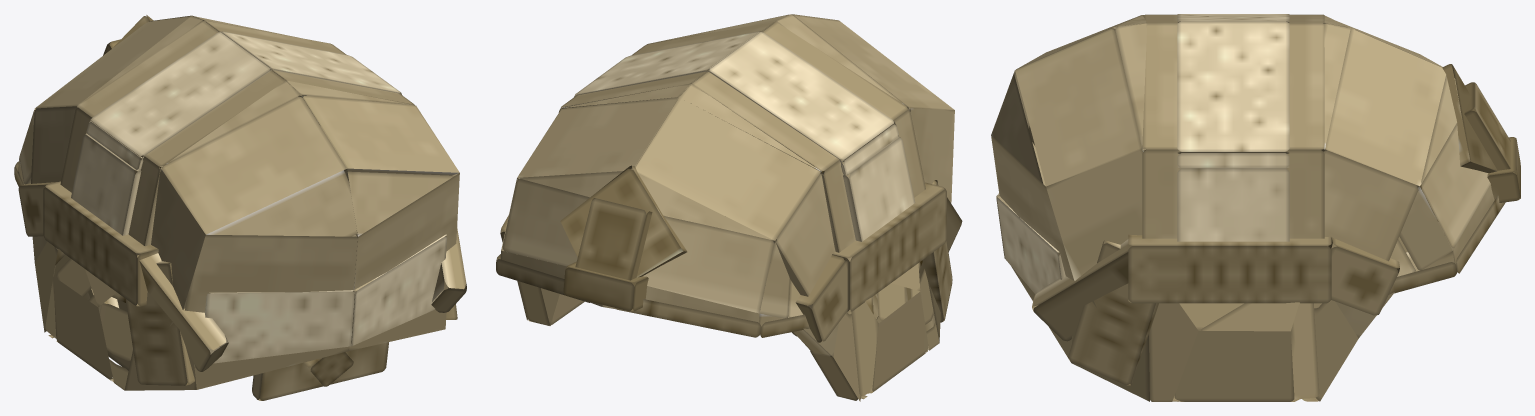
3 renders of one model, left to right at view 1: azimuth 30°, elevation 25°; view 2: azimuth 150°, elevation 25°; view 3: azimuth 270°, elevation 25°, orthographic. The views are drawn at different scales.
Visible parts, largest first — view 1: cube; view 2: cube; view 3: cube.
Boxes of the visible parts, x1=… form: cube: x1=14, y1=15, x2=466, y2=400; cube: x1=496, y1=14, x2=962, y2=401; cube: x1=991, y1=14, x2=1520, y2=401.
Bounding box in the file's own units: 0.7402 × 0.5973 × 0.9441.
